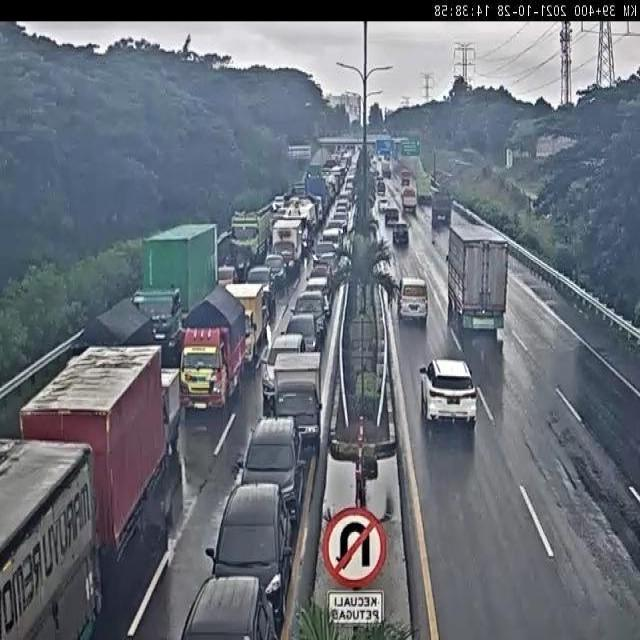Car: (200, 479, 298, 620), (180, 568, 283, 640), (234, 412, 303, 516)
Truck: (0, 342, 166, 640), (128, 218, 218, 345), (175, 282, 248, 428), (72, 294, 156, 387), (446, 225, 509, 328), (126, 357, 183, 454), (419, 358, 481, 436), (272, 352, 322, 444), (218, 282, 263, 358), (228, 202, 272, 271), (273, 215, 303, 279), (431, 188, 454, 224), (400, 186, 418, 212)
Van: (396, 275, 432, 324)
